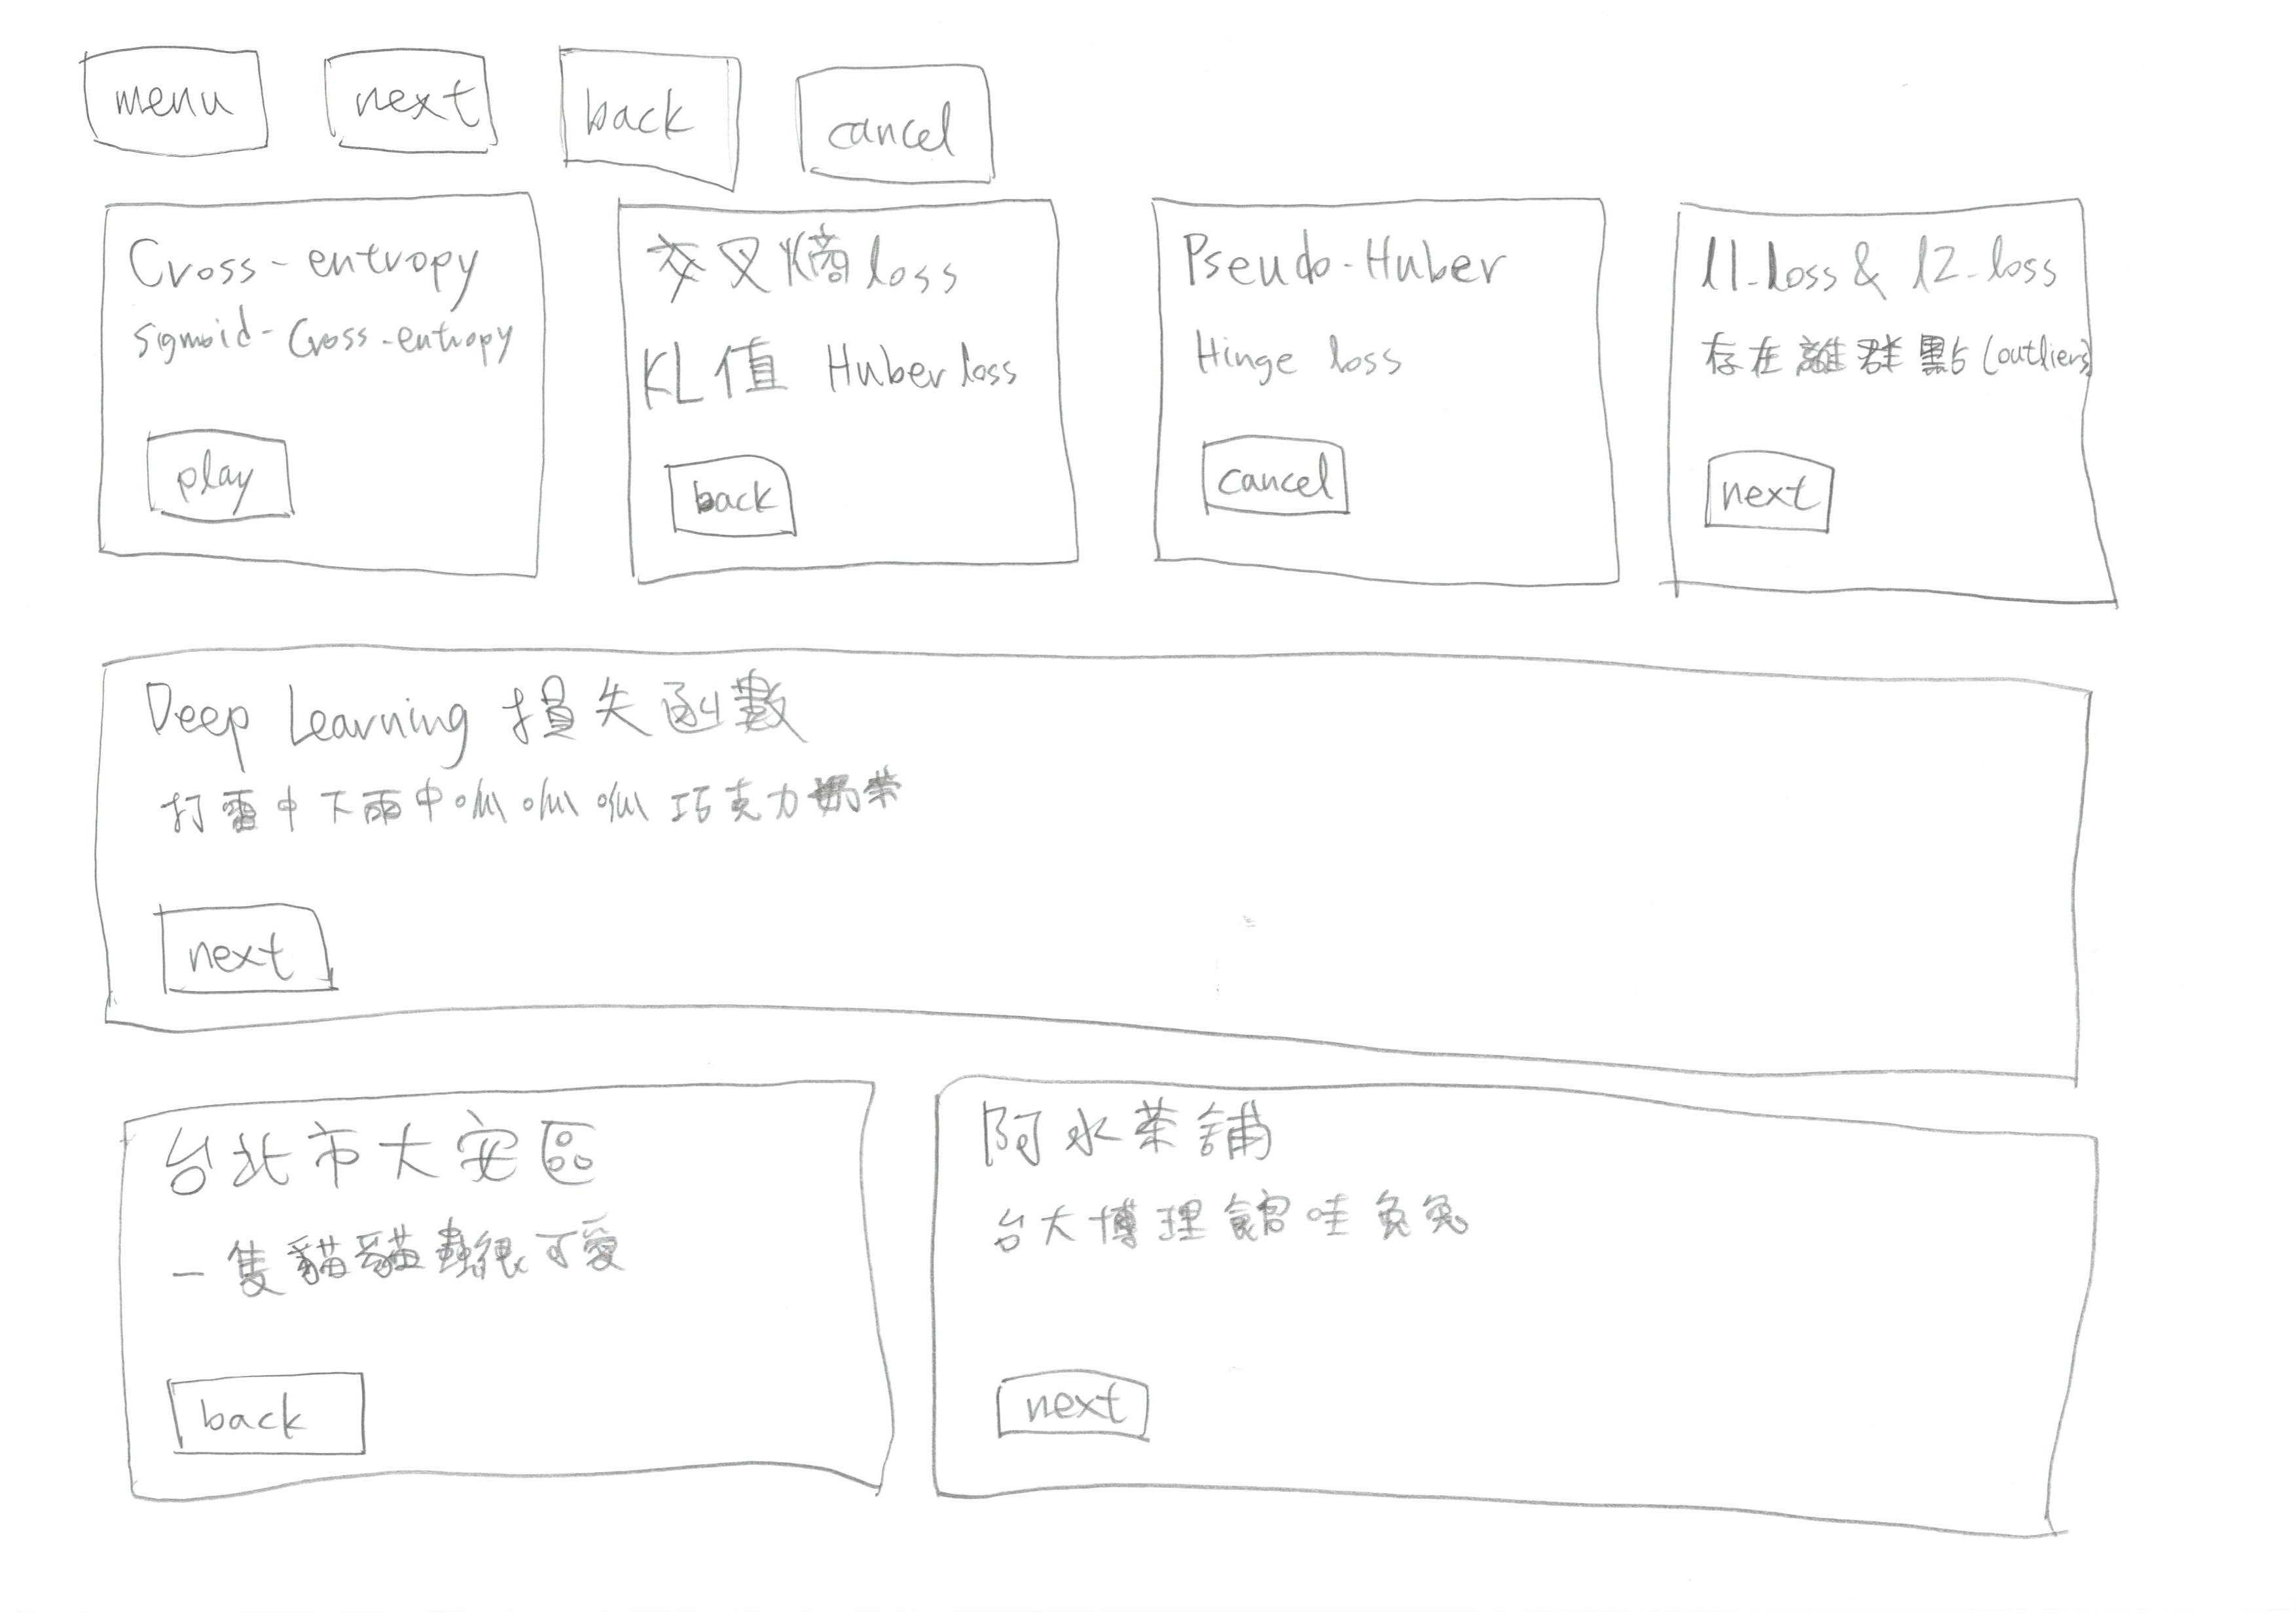back: (543, 23, 777, 197), (146, 1360, 387, 1469), (663, 441, 812, 550)
cancel: (777, 35, 1020, 195), (1176, 415, 1364, 536)
double: (909, 1055, 2141, 1561), (62, 1065, 912, 1543)
menu: (60, 25, 295, 176)
next: (306, 26, 527, 176), (148, 875, 341, 998), (974, 1355, 1181, 1462), (1693, 432, 1860, 552)
play: (121, 422, 308, 531)
quadruple: (63, 188, 563, 613), (1113, 172, 1610, 598), (615, 178, 1111, 603), (1642, 185, 2138, 608)
row: (32, 1076, 2296, 1605), (32, 167, 2296, 636), (32, 624, 2296, 1093), (23, 0, 2287, 197)
single: (63, 622, 2140, 1104)
small-title: (148, 670, 821, 747), (144, 1107, 591, 1195), (1682, 227, 2089, 316), (652, 211, 995, 313), (1188, 232, 1556, 311), (123, 220, 492, 297), (977, 1083, 1287, 1169)
text: (172, 754, 925, 856), (163, 1216, 672, 1315), (647, 330, 1027, 420), (1011, 1195, 1477, 1260), (121, 306, 513, 374), (1704, 323, 2090, 387), (1210, 315, 1438, 411)
